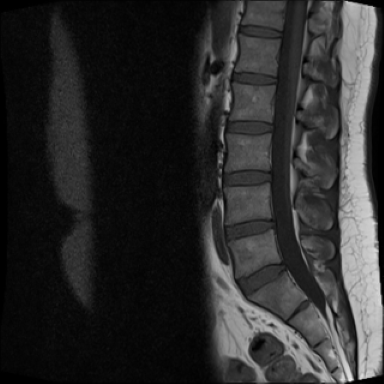Lumbar Disc Bulge (LDB): (187, 214, 248, 243)
Normal IVD: (199, 258, 254, 300), (186, 164, 242, 190), (184, 113, 240, 138), (191, 67, 247, 91), (197, 22, 252, 42)
Spinal Stenosis (SS): (229, 213, 246, 237)
